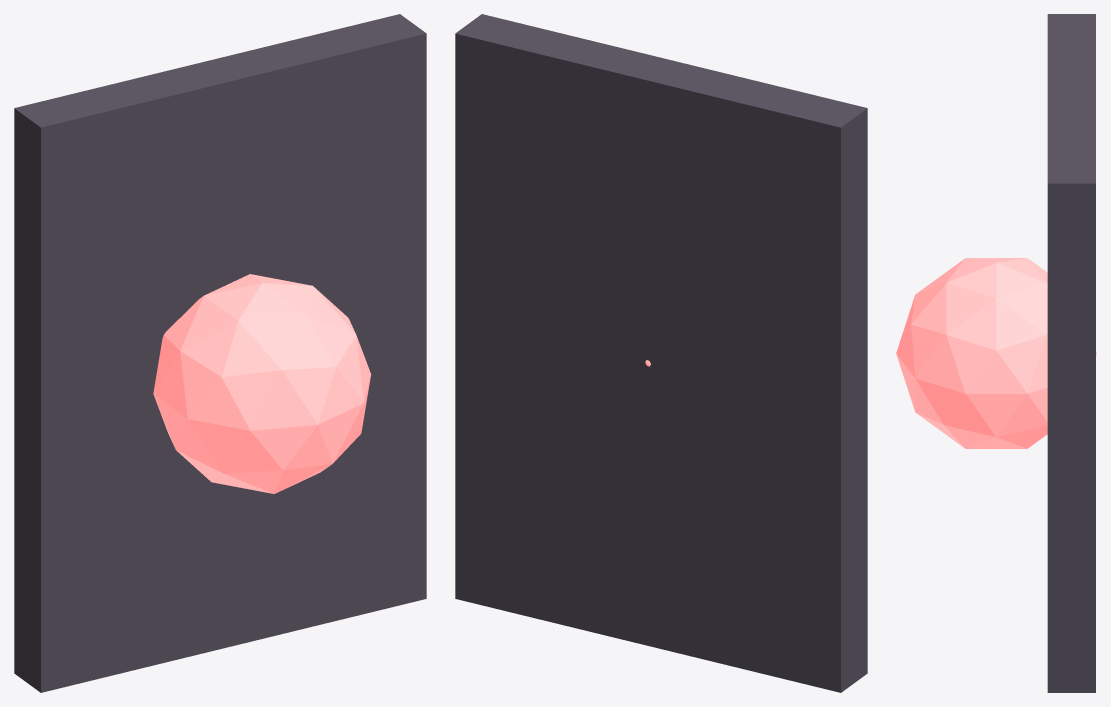
Rendered from shield_obsidian_rune.glb.
3 views of the same model, side by side, from view 1: azimuth 30°, elevation 25°; view 2: azimuth 150°, elevation 25°; view 3: azimuth 270°, elevation 25° (orthographic). The views are drawn at different scales.
Parts seen in each view (by area): view 1: Cube, Icosphere; view 2: Cube; view 3: Cube, Icosphere.
Boxes of the visible parts, x1,y1,x2,y2 form: Cube: (14, 14, 426, 692); Icosphere: (153, 274, 371, 493); Cube: (455, 14, 867, 692); Cube: (1047, 14, 1095, 692); Icosphere: (896, 258, 1096, 448).
Size of the model in its own units: 0.32 by 0.448 by 0.16.
